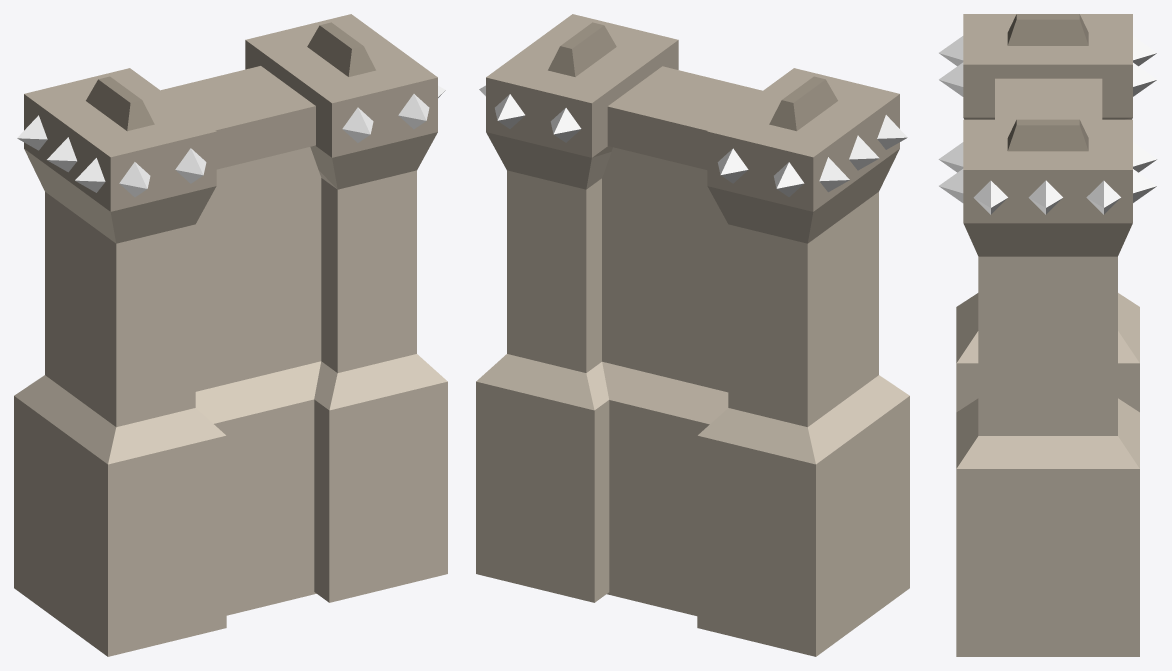
The model's file is Wall_Alone.DAE.
3 renders of one model, left to right at view 1: azimuth 30°, elevation 25°; view 2: azimuth 150°, elevation 25°; view 3: azimuth 270°, elevation 25°, orthographic. The views are drawn at different scales.
Visible parts, largest first — view 1: Wall_Alone; view 2: Wall_Alone; view 3: Wall_Alone.
Boxes of the visible parts, x1,y1,x2,y2 form: Wall_Alone: (14, 14, 447, 656); Wall_Alone: (476, 14, 909, 656); Wall_Alone: (938, 14, 1157, 656).
Size of the model in its own units: 1 by 1.34 by 0.5239.
